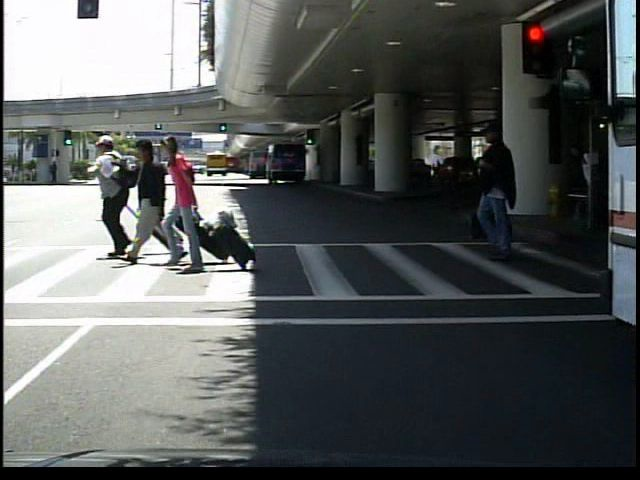person: (460, 114, 532, 264)
